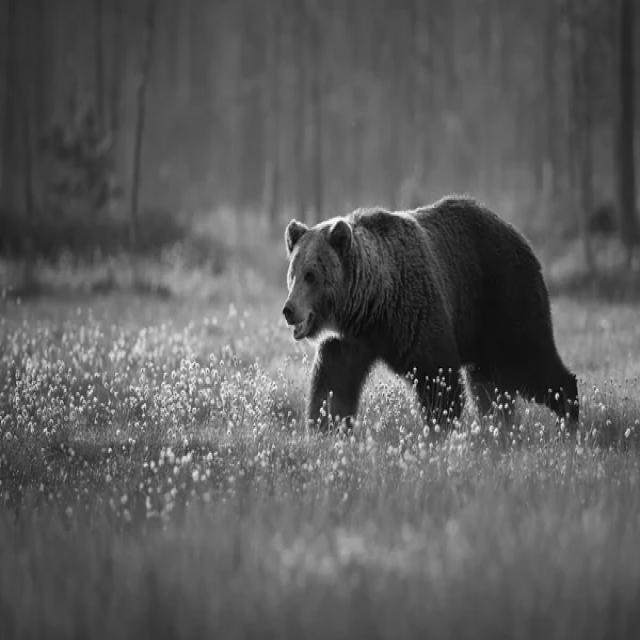Animal: (284, 197, 580, 429)
